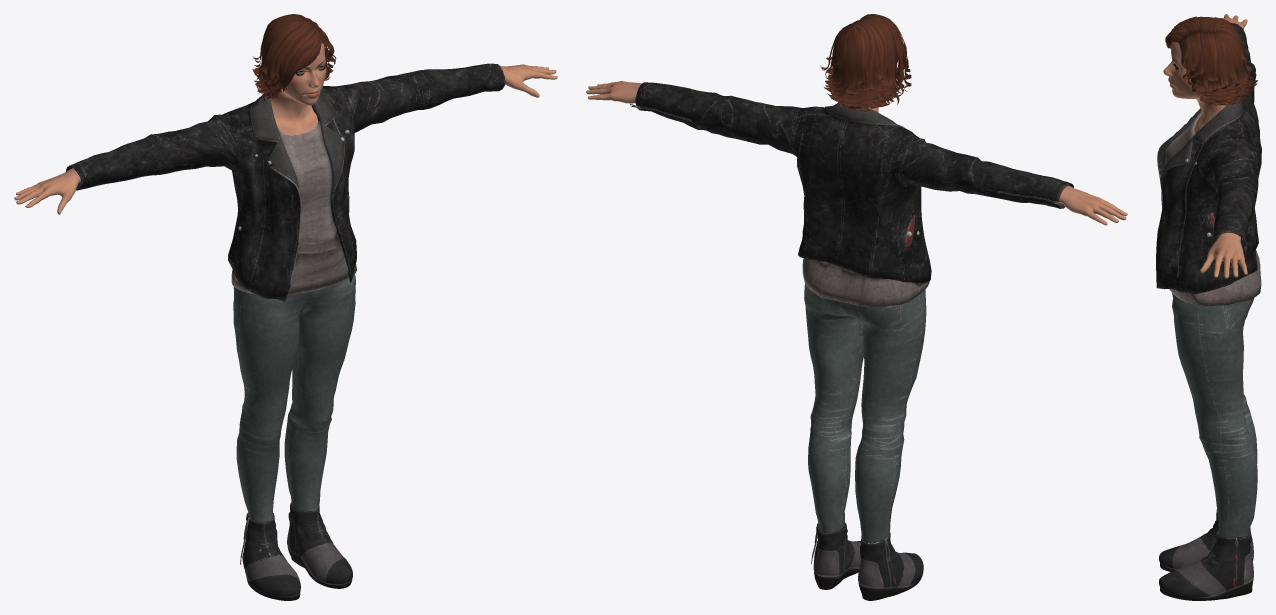
File: Rachel2.obj
3 views of the same model, side by side, from view 1: azimuth 30°, elevation 25°; view 2: azimuth 150°, elevation 25°; view 3: azimuth 270°, elevation 25° (orthographic).
Parts seen in each view (by area): view 1: Tops, Bottoms, Shoes, Body, Hair; view 2: Tops, Bottoms, Hair, Shoes, Body; view 3: Tops, Bottoms, Shoes, Hair, Body.
Boxes of the visible parts, <box> form: Tops: <box>66,63,505,301</box>; Bottoms: <box>233,274,355,528</box>; Shoes: <box>240,502,352,600</box>; Body: <box>14,43,557,214</box>; Hair: <box>252,14,336,101</box>; Tops: <box>630,82,1073,307</box>; Bottoms: <box>804,283,926,544</box>; Hair: <box>820,14,911,111</box>; Shoes: <box>811,522,923,600</box>; Body: <box>586,63,1127,225</box>; Tops: <box>1156,22,1261,306</box>; Bottoms: <box>1172,293,1257,537</box>; Shoes: <box>1159,509,1253,600</box>; Hair: <box>1165,16,1257,105</box>; Body: <box>1163,14,1247,278</box>.
Bounding box in the file's own units: 179 × 178 × 30.52.
5 materials, 5 textured.
